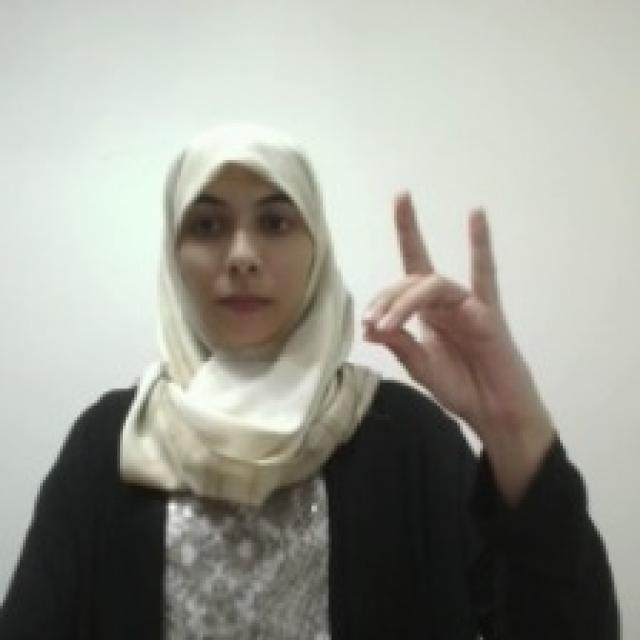Dog: (358, 179, 523, 416)
